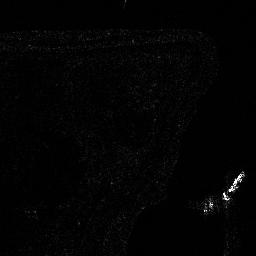ship: (222, 170, 245, 201)
